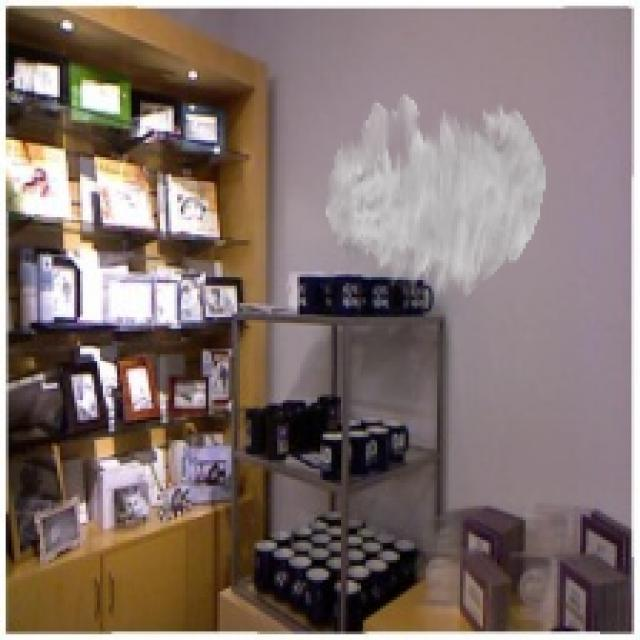Smoke: (326, 94, 546, 300)
